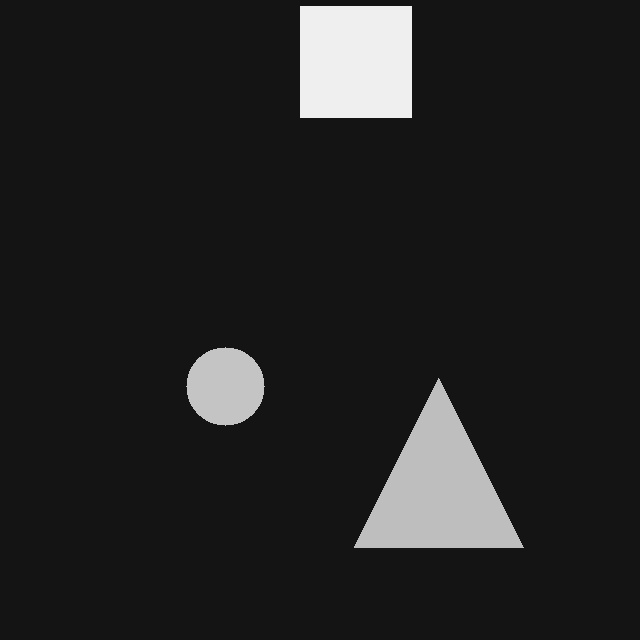circle: (186, 347, 264, 425)
square: (300, 6, 411, 117)
triangle: (354, 378, 523, 547)
